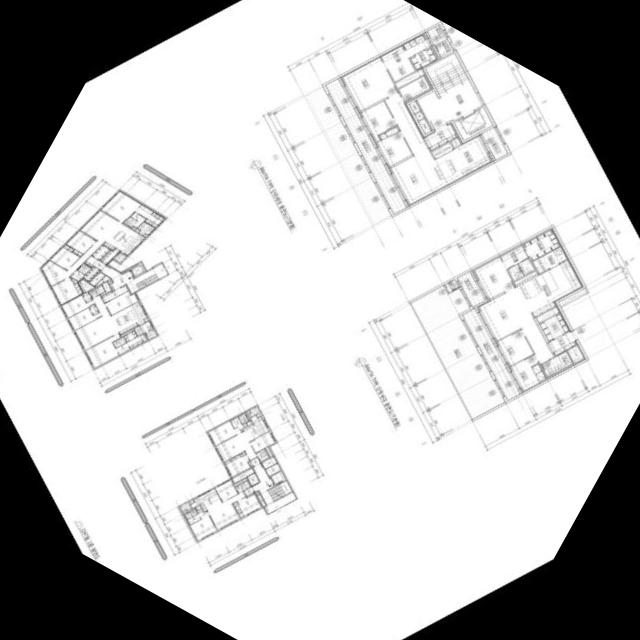background: (0, 0, 640, 640)
space_balconi: (325, 78, 406, 214), (457, 271, 519, 400), (481, 126, 507, 160), (426, 24, 446, 45), (113, 252, 126, 262), (145, 328, 156, 339)
space_bedroom: (340, 56, 397, 111), (472, 256, 514, 300), (375, 125, 412, 167), (359, 101, 396, 142), (509, 354, 546, 392), (496, 329, 532, 366), (100, 190, 141, 222), (84, 333, 120, 368), (50, 277, 83, 305), (207, 421, 243, 445), (105, 290, 138, 315), (189, 511, 216, 540), (60, 295, 94, 318), (65, 230, 95, 256), (49, 244, 79, 270), (67, 307, 100, 330), (223, 451, 249, 477), (233, 494, 261, 518), (249, 431, 275, 452), (214, 479, 237, 501), (89, 304, 98, 315), (82, 292, 91, 302)
space_dressroom: (522, 228, 560, 261), (401, 32, 429, 57), (410, 46, 438, 70), (144, 211, 165, 228), (127, 333, 146, 348), (123, 330, 136, 341)
space_elevator: (454, 107, 492, 140), (129, 262, 145, 277), (269, 470, 285, 485)
space_elevator_hall: (416, 82, 482, 130), (100, 262, 167, 293), (252, 463, 273, 504)
space_front: (423, 122, 458, 150), (548, 330, 577, 355), (101, 285, 128, 303), (84, 256, 105, 270), (82, 266, 100, 282), (91, 245, 109, 260), (243, 487, 253, 497), (248, 457, 259, 466)
space_kitchen: (517, 259, 583, 317), (434, 134, 493, 185), (103, 224, 145, 255), (110, 301, 147, 334), (191, 488, 221, 512), (242, 415, 269, 441)
space_living_room: (384, 93, 447, 206), (40, 210, 122, 286), (476, 287, 553, 363), (74, 295, 118, 350), (207, 491, 245, 530), (215, 431, 256, 461)
space_multipurpose_space: (532, 246, 567, 274)
space_other: (539, 312, 569, 341), (263, 492, 296, 513), (394, 68, 424, 88), (557, 287, 587, 307), (536, 306, 559, 323), (514, 270, 537, 285), (431, 142, 452, 158), (232, 468, 254, 483), (99, 248, 119, 264), (567, 345, 584, 363), (134, 320, 153, 335), (137, 221, 154, 235), (89, 272, 104, 286), (265, 463, 280, 476), (261, 456, 276, 469), (418, 118, 430, 134), (79, 280, 94, 292), (94, 275, 110, 286), (247, 472, 259, 485), (100, 282, 111, 295), (408, 100, 419, 113), (248, 406, 259, 417), (450, 137, 462, 147), (179, 502, 191, 511), (233, 478, 246, 486), (257, 494, 265, 506), (120, 329, 133, 336), (414, 111, 423, 120), (265, 447, 271, 457), (131, 226, 139, 232), (71, 277, 77, 283), (120, 269, 128, 273), (143, 317, 148, 322), (197, 509, 202, 513), (242, 423, 247, 427), (255, 491, 259, 495), (256, 413, 260, 417), (108, 279, 112, 283), (181, 510, 186, 513), (143, 234, 147, 237), (246, 410, 249, 414), (189, 500, 193, 503)
space_outdoor_room: (435, 39, 453, 58), (444, 279, 458, 292)
space_staircase: (425, 53, 469, 97), (267, 481, 291, 501), (135, 273, 158, 289)
space_toilet: (499, 244, 534, 281), (380, 45, 414, 81), (541, 351, 572, 376), (398, 76, 429, 101), (123, 212, 145, 227), (230, 413, 248, 428), (135, 204, 153, 218), (184, 509, 200, 524), (88, 285, 104, 298), (235, 480, 250, 493), (255, 448, 268, 461), (115, 342, 129, 354), (70, 270, 84, 281), (77, 263, 87, 272), (81, 266, 91, 274), (112, 339, 120, 348), (118, 336, 126, 345)
